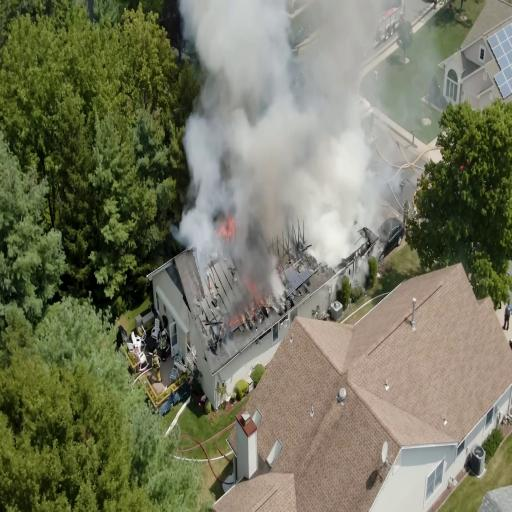smoke: (201, 0, 346, 143), (291, 106, 386, 266), (247, 151, 293, 252)
